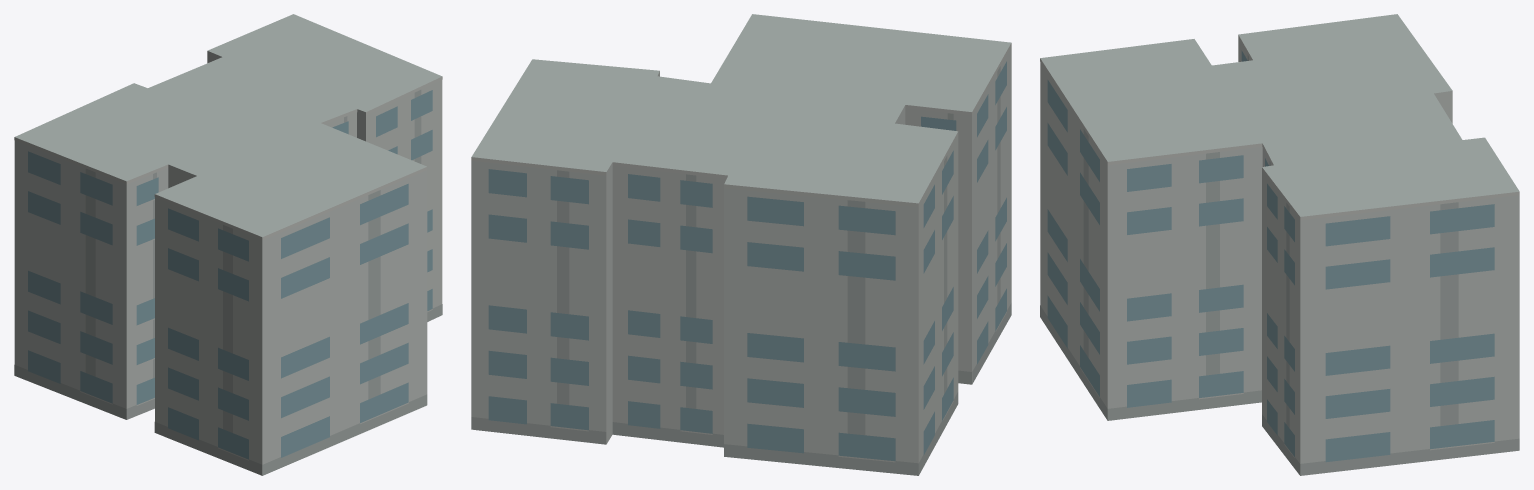
File: survey-upis-32863183.glb
3 views of the same model, side by side, from view 1: azimuth 30°, elevation 25°; view 2: azimuth 150°, elevation 25°; view 3: azimuth 270°, elevation 25° (orthographic). The views are drawn at different scales.
Visible parts, largest first — view 1: survey-upis-32863183.tmp; view 2: survey-upis-32863183.tmp; view 3: survey-upis-32863183.tmp.
Boxes of the visible parts, bbox=[...] form: survey-upis-32863183.tmp: bbox=[14, 14, 442, 475]; survey-upis-32863183.tmp: bbox=[471, 14, 1011, 475]; survey-upis-32863183.tmp: bbox=[1040, 14, 1519, 475].
Bounding box in the file's own units: 30.25 × 18 × 30.22.
